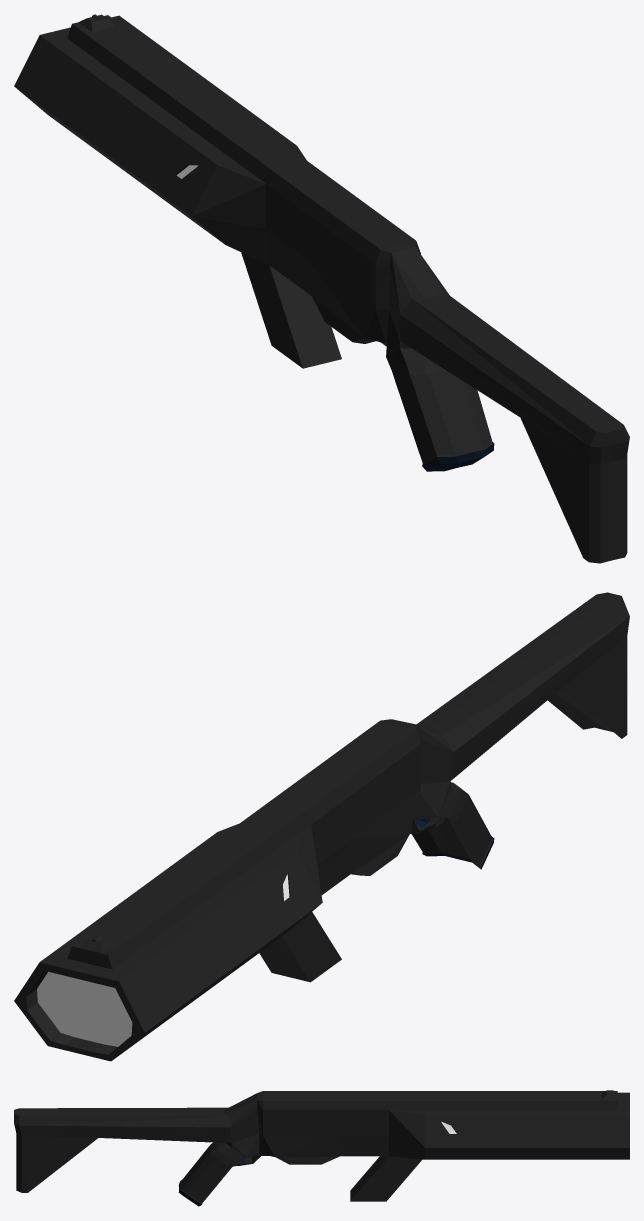
Rendered from Plasma_Shotgun_mk_1.fbx.
3 views of the same model, one above another, from view 1: azimuth 30°, elevation 25°; view 2: azimuth 150°, elevation 25°; view 3: azimuth 270°, elevation 25° (orthographic). The views are drawn at different scales.
Visible parts, largest first — view 1: Shotgun_mk_1; view 2: Shotgun_mk_1; view 3: Shotgun_mk_1.
Boxes of the visible parts, x1,y1,x2,y2 form: Shotgun_mk_1: [14, 14, 629, 563]; Shotgun_mk_1: [14, 592, 629, 1061]; Shotgun_mk_1: [14, 1090, 629, 1206].
Size of the model in its own units: 125 by 17.63 by 24.07.
